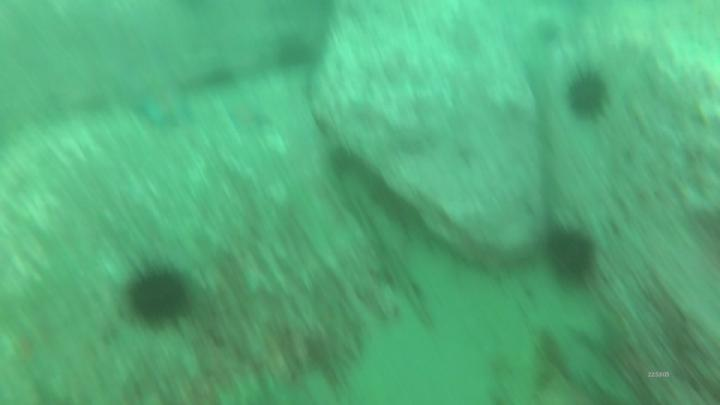echinus: (127, 271, 191, 323), (550, 225, 589, 282), (570, 70, 606, 120)
starfish: (135, 91, 197, 126)
